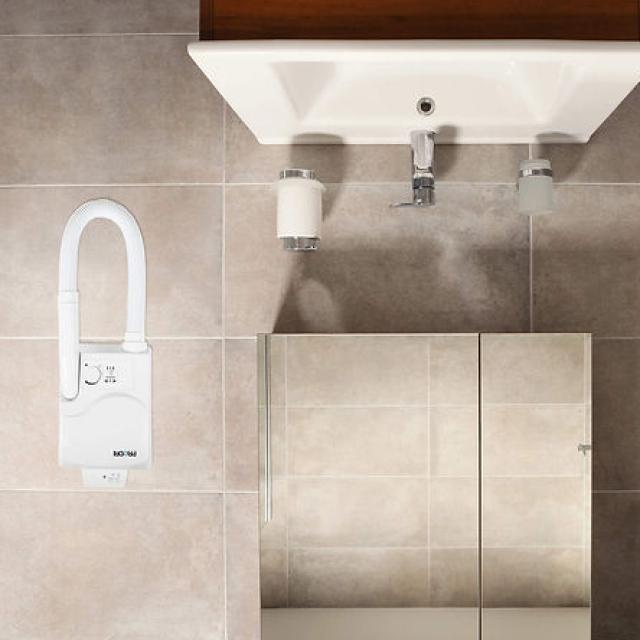dryer: (37, 188, 179, 502)
